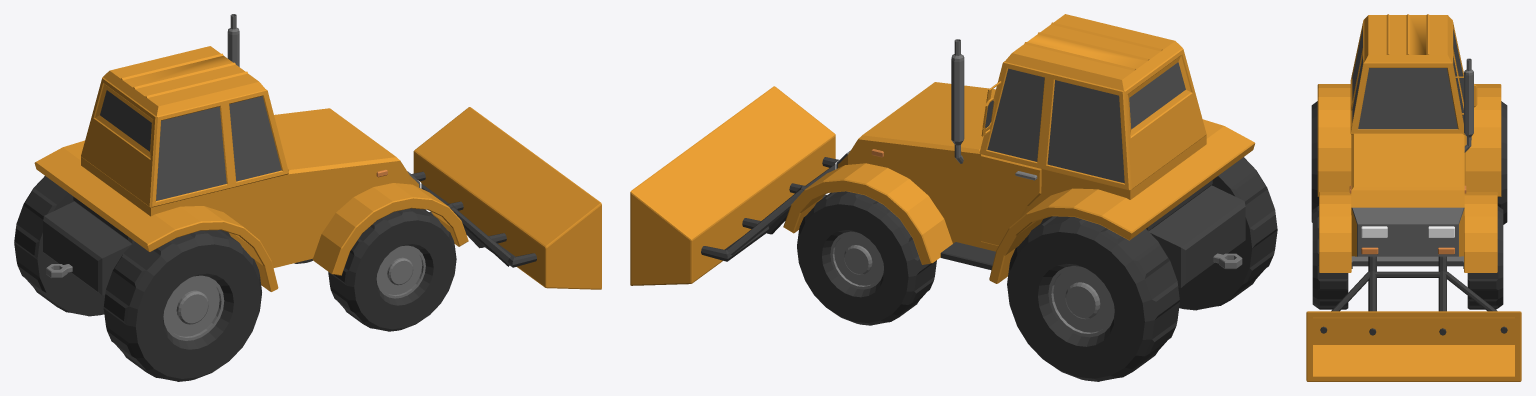
File: tractor-a02.glb
The picture shows the model from 3 angles, left to right: view 1: azimuth 30°, elevation 25°; view 2: azimuth 150°, elevation 25°; view 3: azimuth 270°, elevation 25°; orthographic projection. The views are drawn at different scales.
Parts seen in each view (by area): view 1: tractor_a02_001; view 2: tractor_a02_001; view 3: tractor_a02_001.
Boxes of the visible parts, left/top/right/bottom form: tractor_a02_001: left=14, top=14, right=601, bottom=381; tractor_a02_001: left=630, top=14, right=1277, bottom=381; tractor_a02_001: left=1306, top=14, right=1521, bottom=381.
Bounding box in the file's own units: 6.99 × 3.64 × 3.28.
2 materials, 2 textured.
